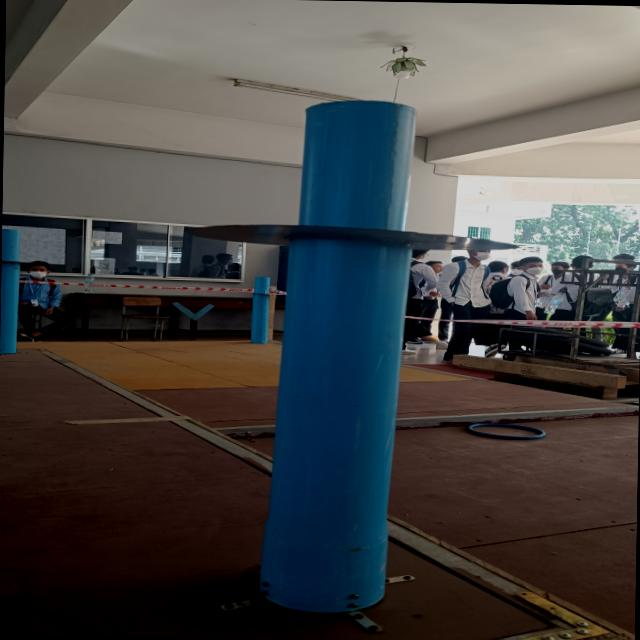pole: (154, 86, 592, 377)
